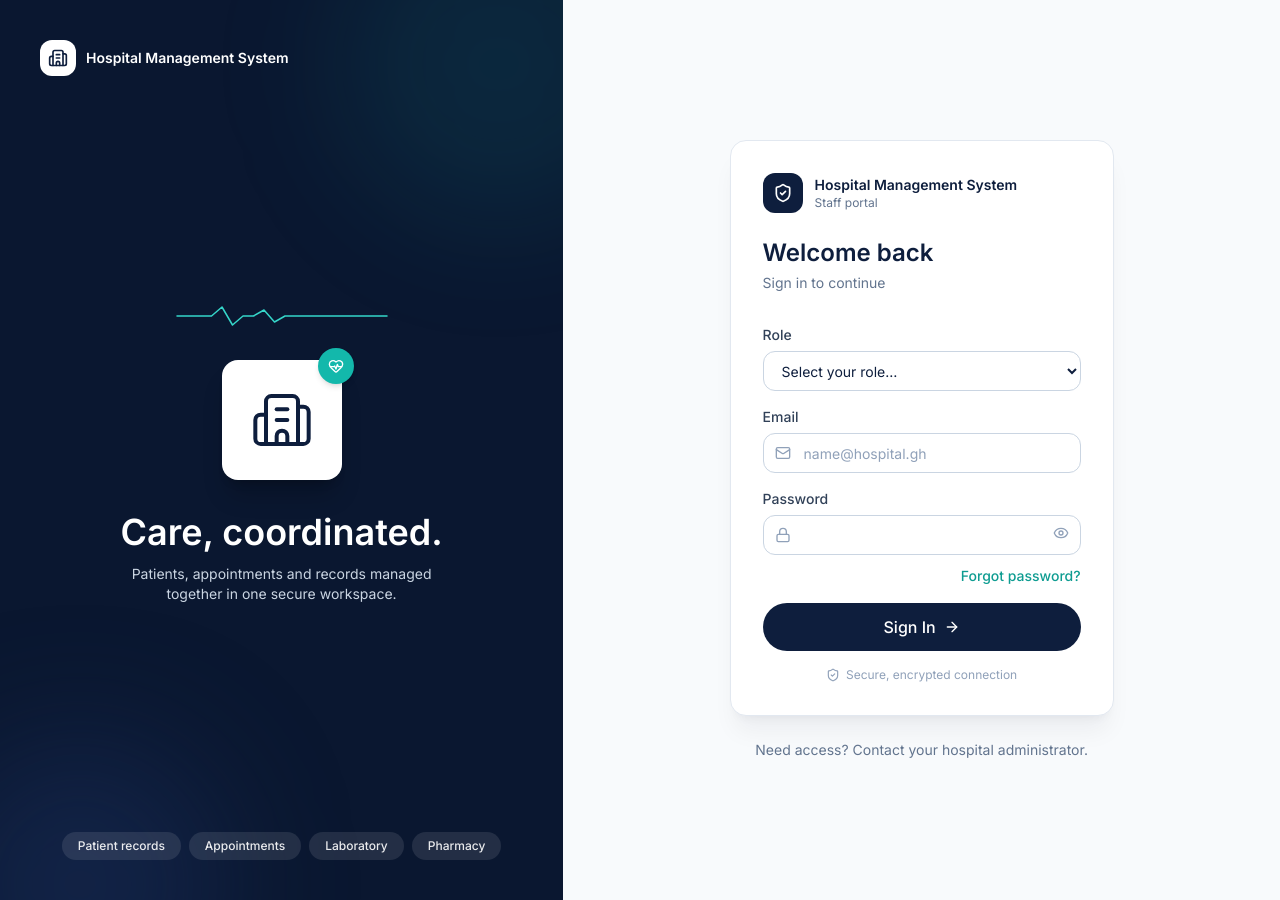
Test: Login › signs the account back out and warns when the selected role doesn't match the account
The image size is (1280, 900).
Select "Nurse" in the dropdown labelled "Role": (922, 371) [763,351,1081,391]
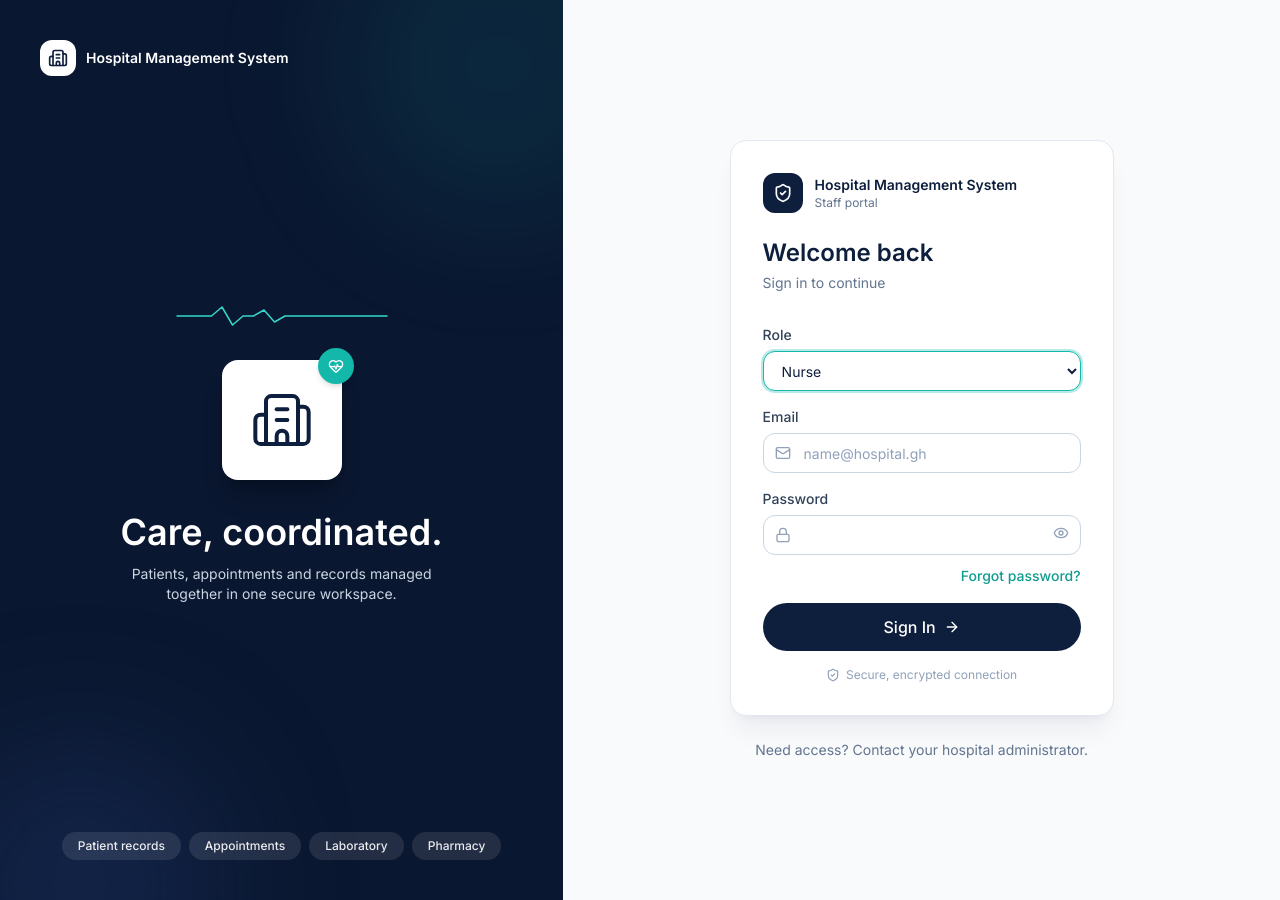
In the field labelled "Email": (922, 453) [763,433,1081,473], type "doctor@demo.hms.gh"
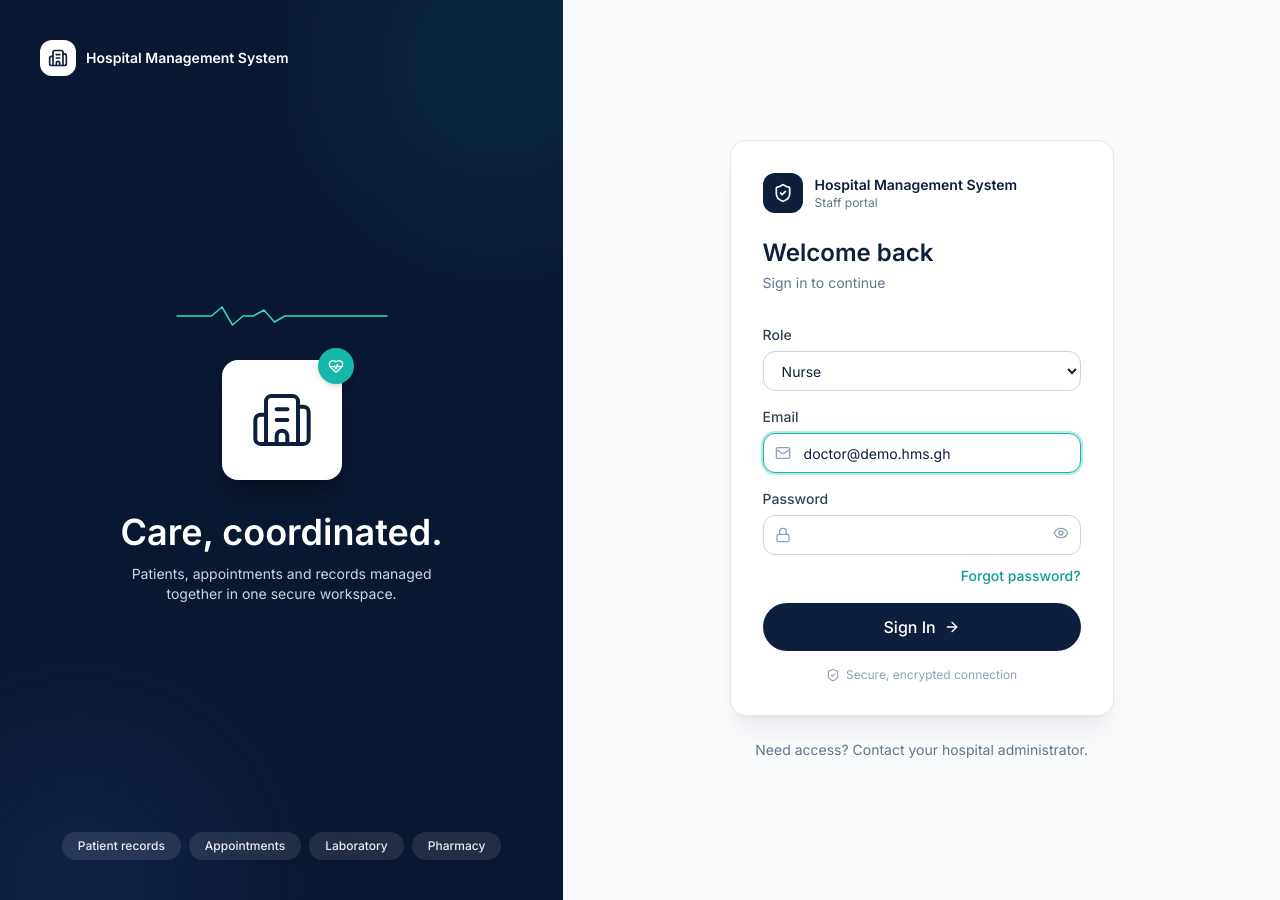
In the password field labelled "Password": (922, 535) [763,515,1081,555], type "DemoPass123!"
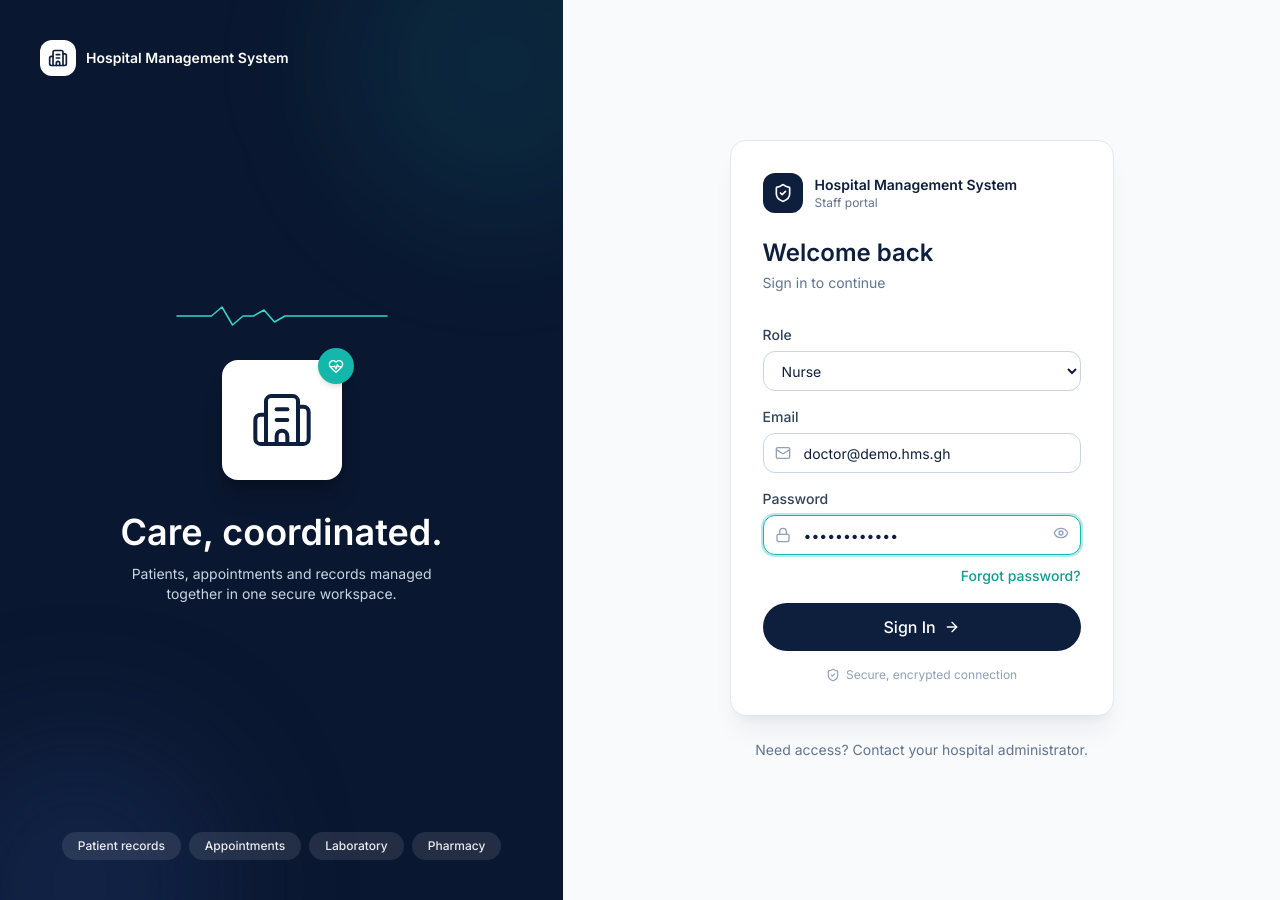
Click the button "Sign In": (922, 627) [763,603,1081,651]
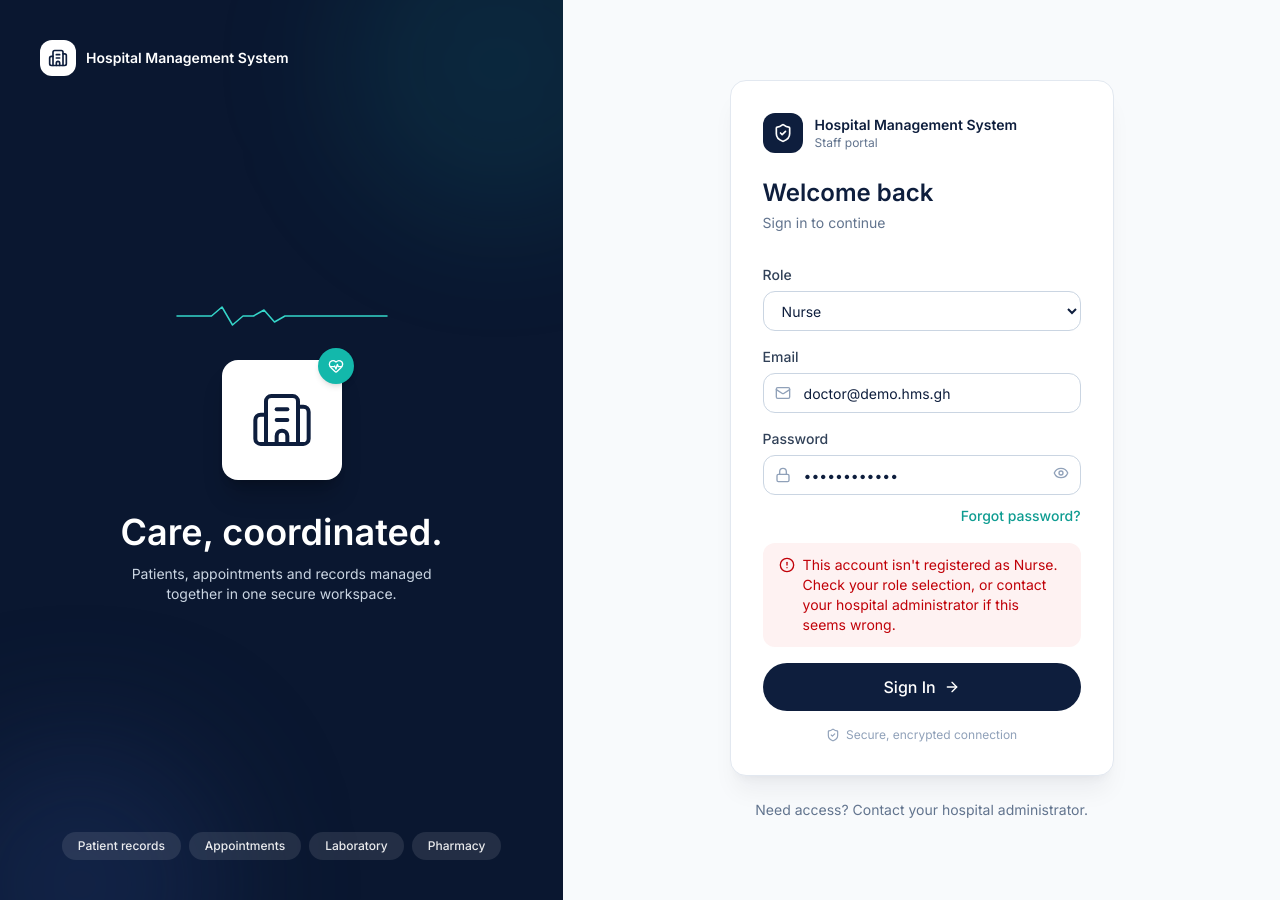
Expected: the text "isn't registered as Nurse" is shown, [803,556,1058,633]
